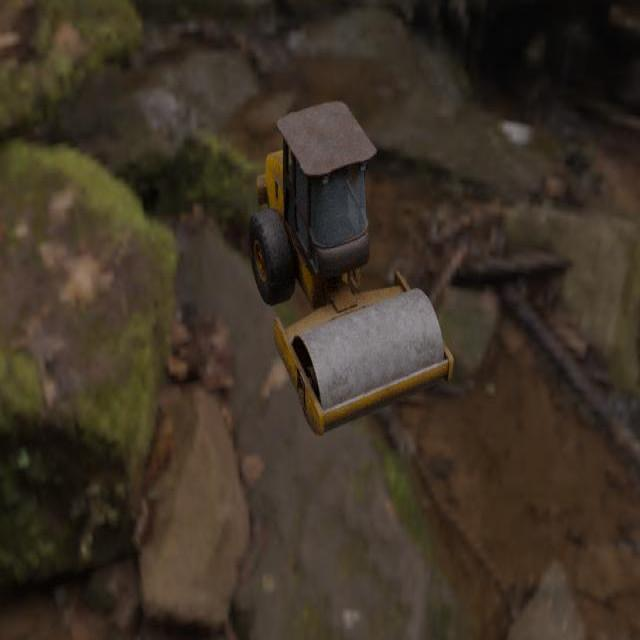Roller: (247, 100, 453, 436)
